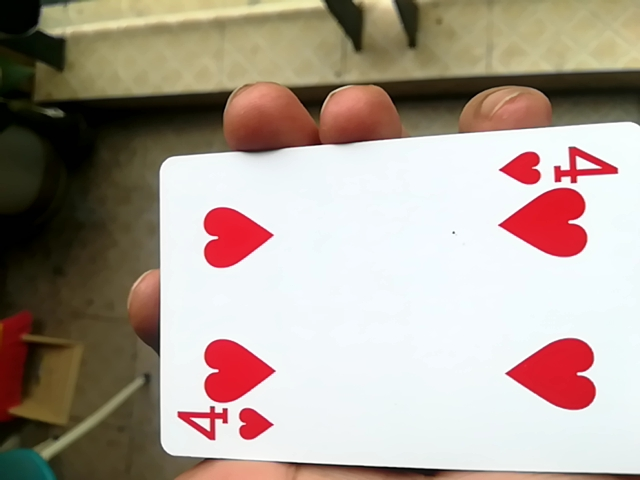hx 4: (152, 118, 634, 480)
